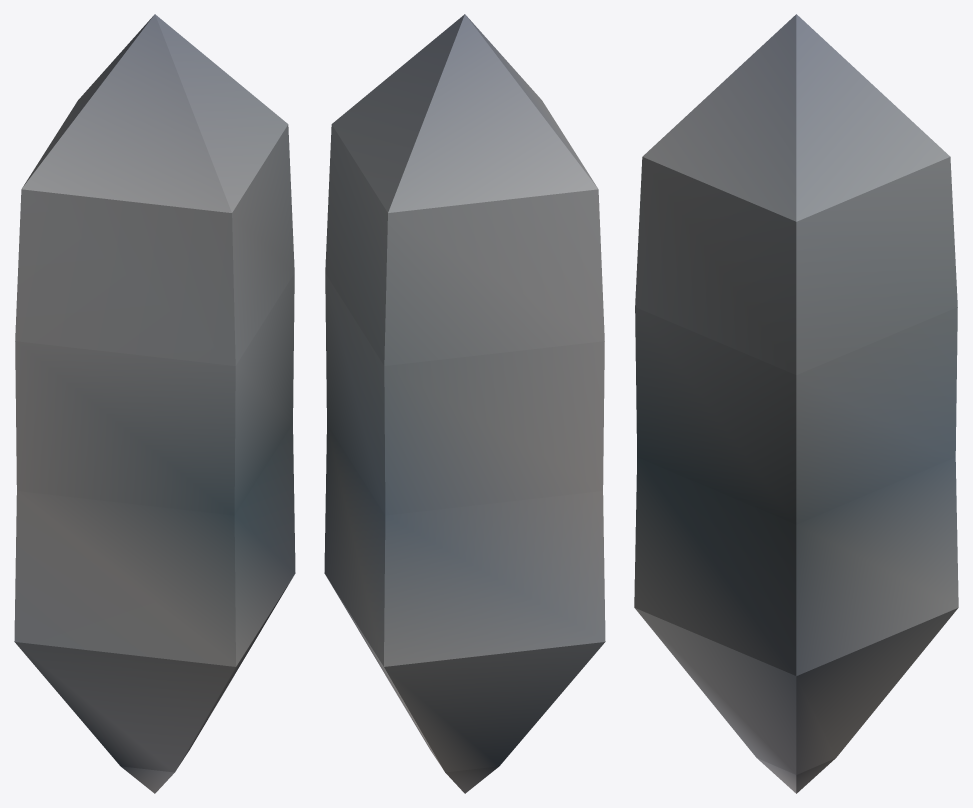
Rendered from 000002_plane_cessna caravan_flying_12288_16.glb.
3 renders of one model, left to right at view 1: azimuth 30°, elevation 25°; view 2: azimuth 150°, elevation 25°; view 3: azimuth 270°, elevation 25°, orthographic.
Parts seen in each view (by area): view 1: world; view 2: world; view 3: world.
Part boxes in pixels (x1,y1,x2,y2): world: [14, 14, 295, 793]; world: [324, 14, 605, 793]; world: [634, 14, 958, 793].
Size of the model in its own units: 0.227 by 0.602 by 0.2269.
